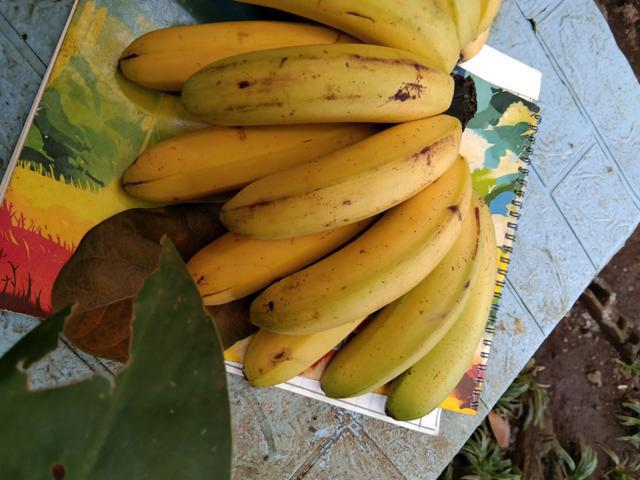ripe: (245, 158, 462, 333), (322, 185, 489, 397), (217, 110, 467, 241), (184, 44, 452, 135)
